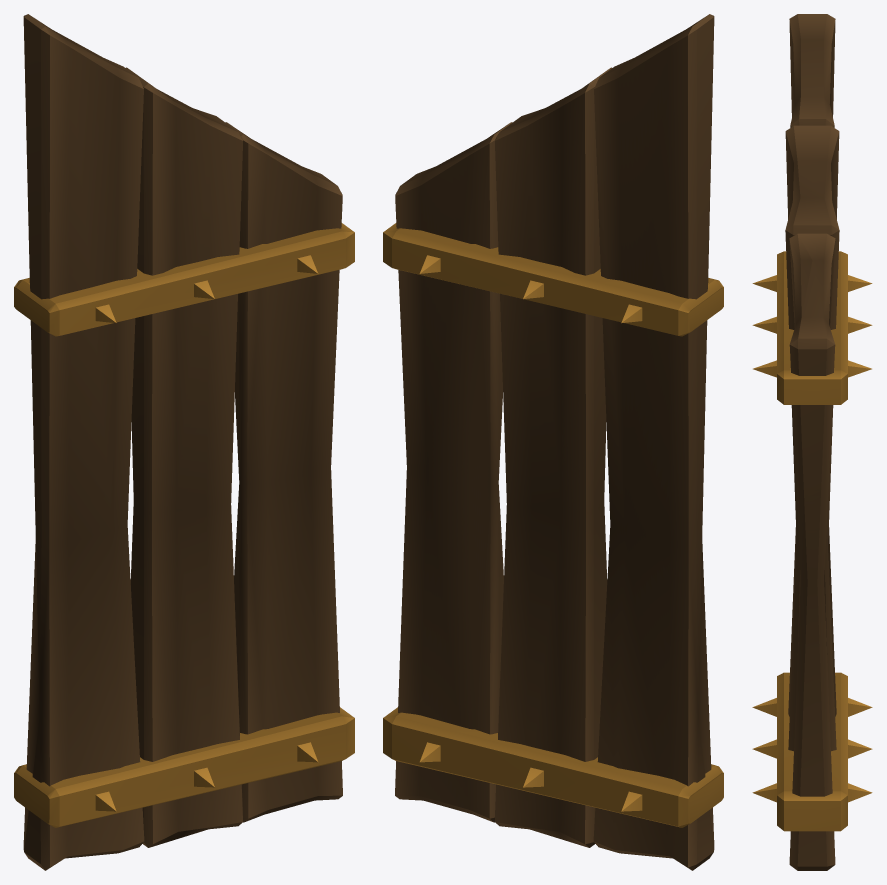
File: obj_woodenDoor_left_LOW.FBX
The picture shows the model from 3 angles, left to right: view 1: azimuth 30°, elevation 25°; view 2: azimuth 150°, elevation 25°; view 3: azimuth 270°, elevation 25°; orthographic projection. The views are drawn at different scales.
Parts seen in each view (by area): view 1: obj_woodenDoor_left_LOW; view 2: obj_woodenDoor_left_LOW; view 3: obj_woodenDoor_left_LOW.
Boxes of the visible parts, bbox=[...] form: obj_woodenDoor_left_LOW: bbox=[14, 14, 354, 870]; obj_woodenDoor_left_LOW: bbox=[383, 14, 723, 870]; obj_woodenDoor_left_LOW: bbox=[752, 14, 872, 870].
Bounding box in the file's own units: 1.78 × 4.68 × 0.6989.
